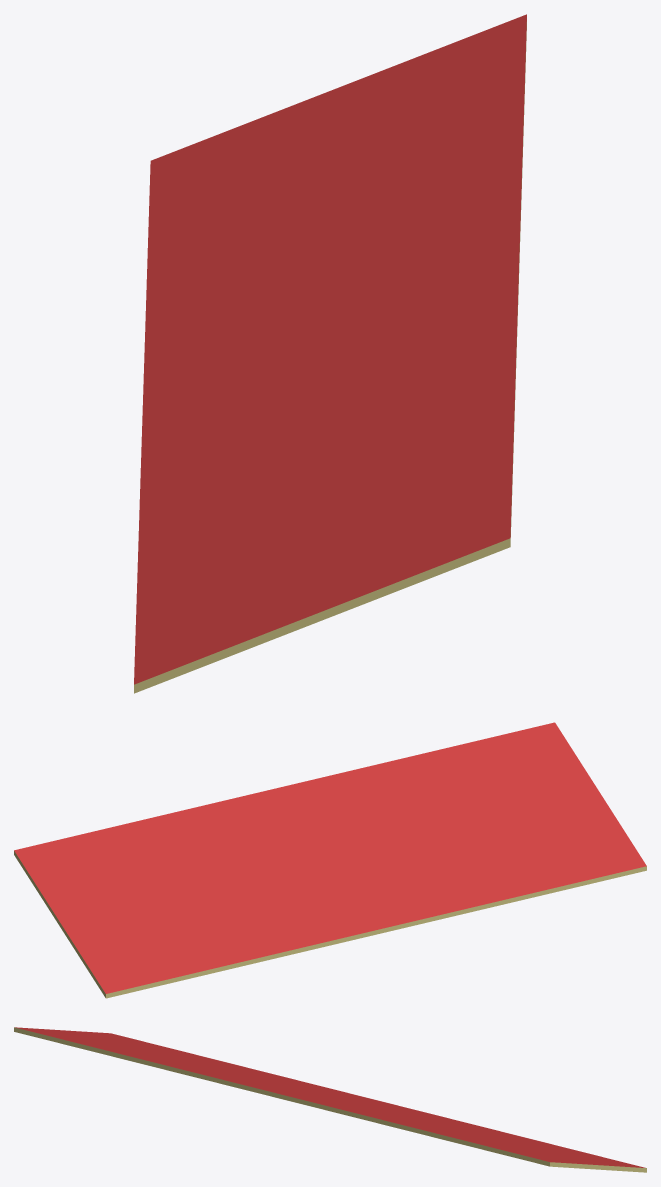
3 renders of one model, top to bottom at view 1: azimuth 30°, elevation 25°; view 2: azimuth 150°, elevation 25°; view 3: azimuth 270°, elevation 25°, orthographic. The views are drawn at different scales.
Bounding box in the file's own units: 9.69 × 12.73 × 1.76.
